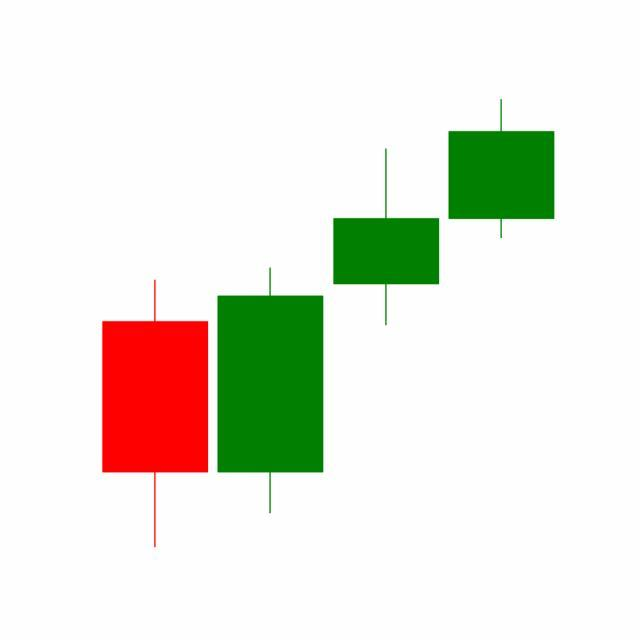Advance Block: (211, 100, 555, 520)
